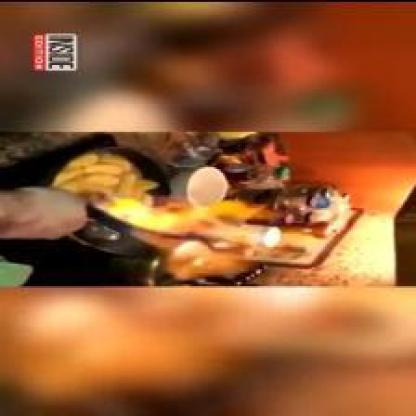Fire: (117, 195, 264, 232)
